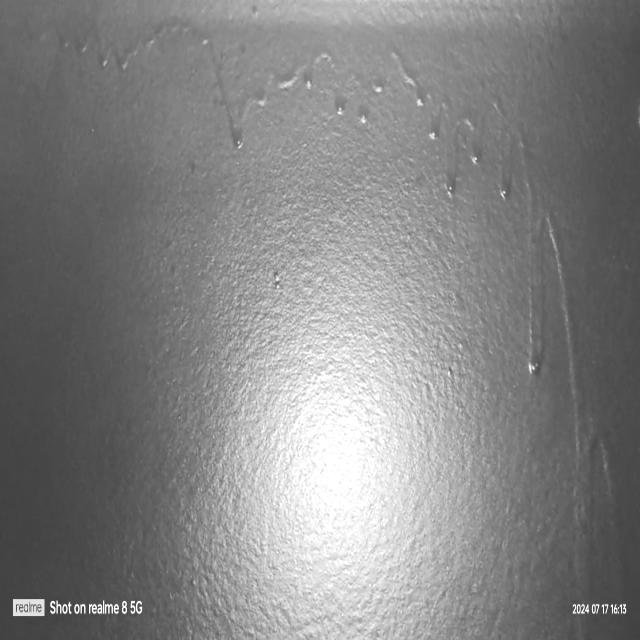paint drips: (39, 10, 518, 209), (516, 122, 625, 640)
